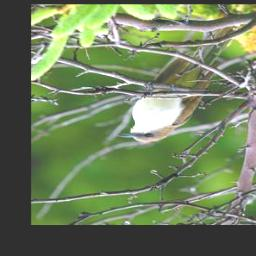Cuckoo: (123, 24, 242, 145)
